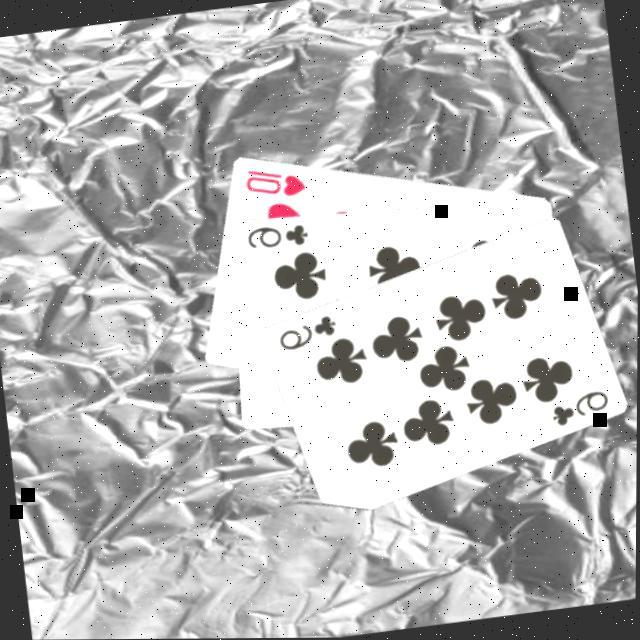10H: (242, 157, 312, 203)
6C: (244, 216, 313, 254)
9C: (274, 308, 344, 354), (548, 384, 616, 429)
